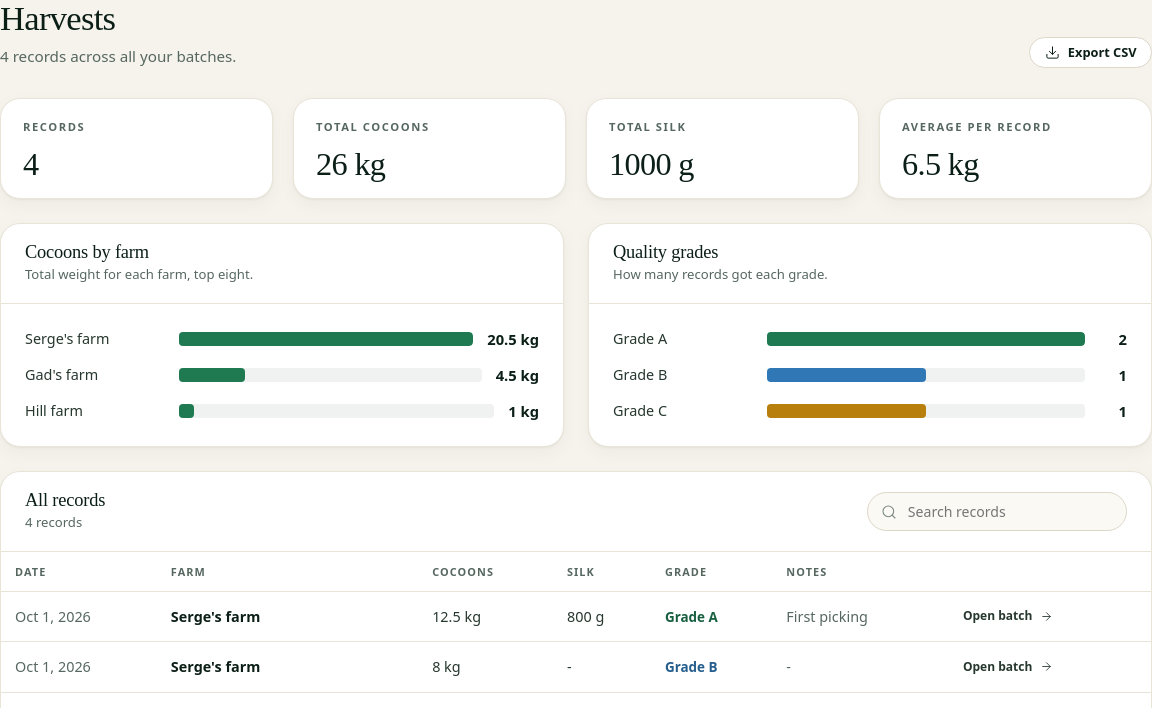
Test case: Harvests page › says "1 record" when the search leaves one
The image size is (1152, 708).
Check: the text "First picking" is shown, box [772, 591, 937, 642]
In the search field named "Search by farm, grade or note": (997, 512) [867, 492, 1127, 531], type "odd"
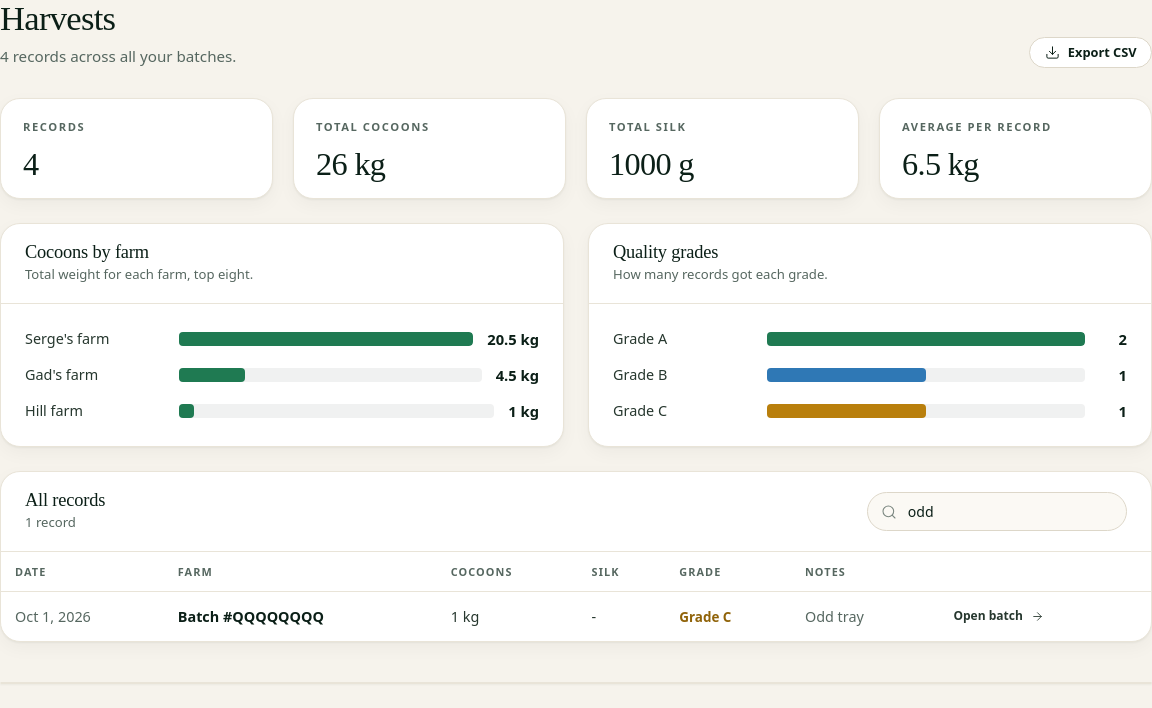
Check: the text "1 record" is shown, box [25, 513, 76, 531]
